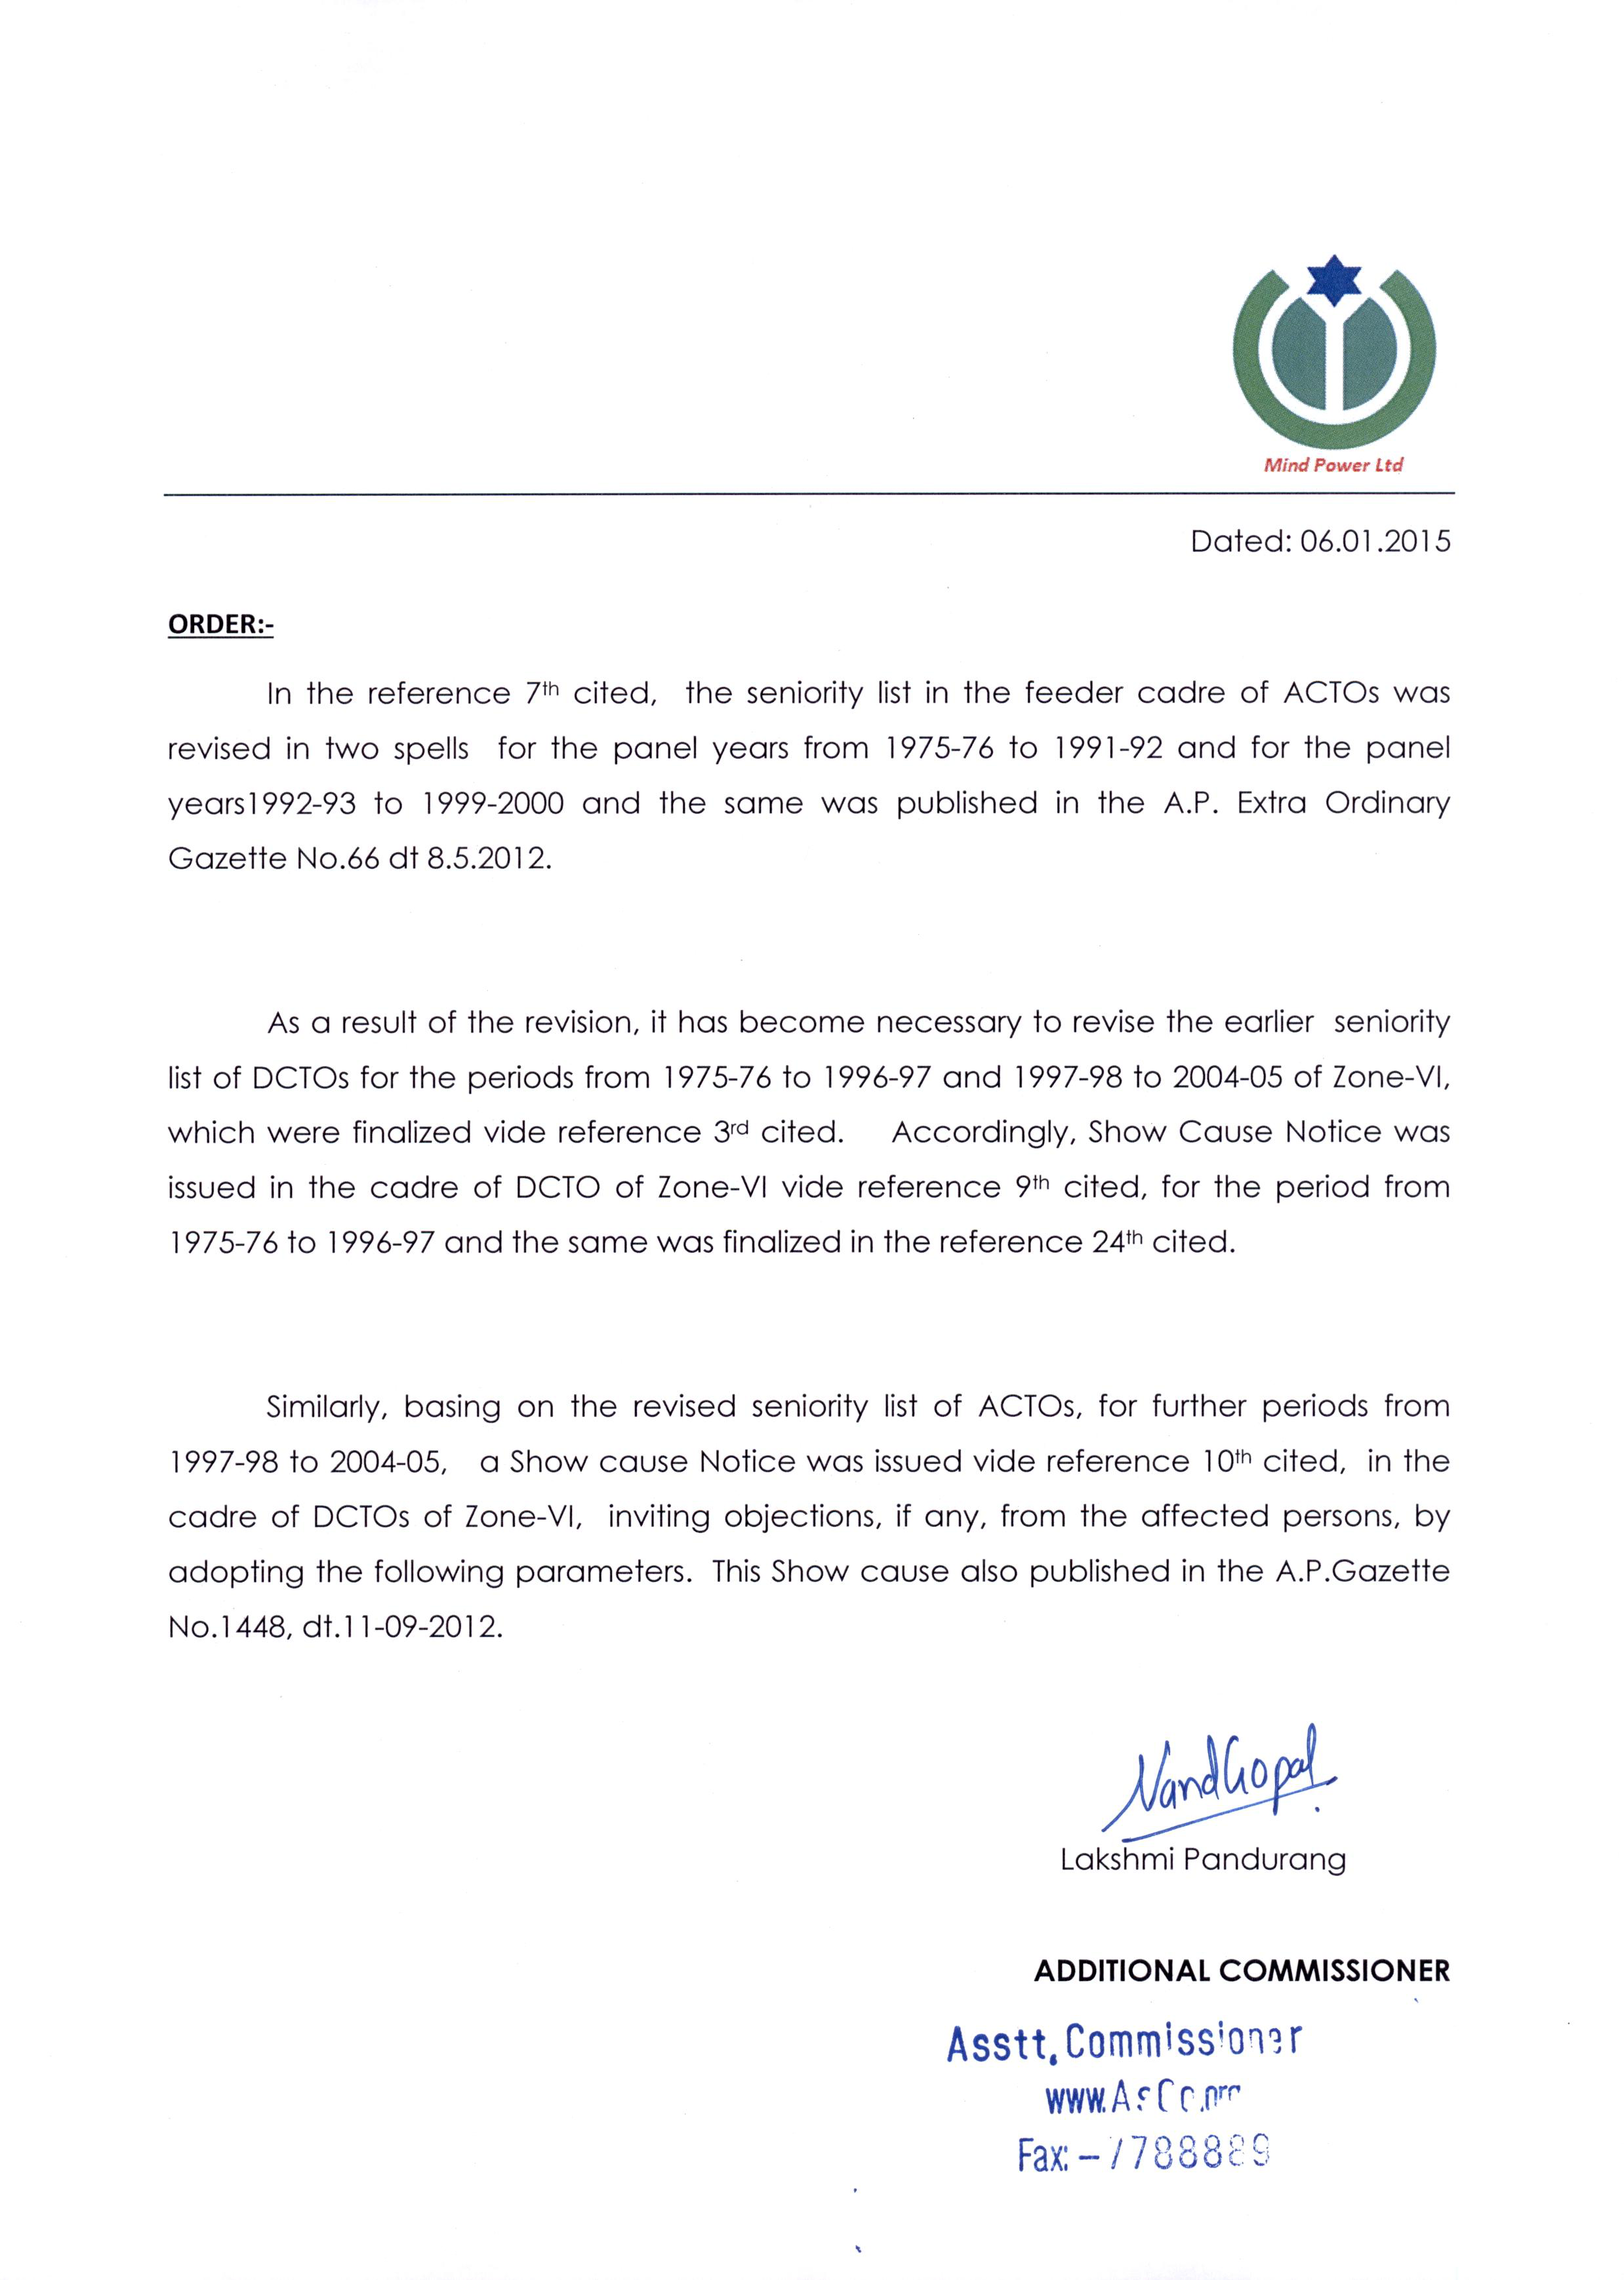Signature: (1093, 1712, 1352, 1846)
